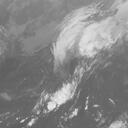cyclone: (51, 26, 97, 76)
